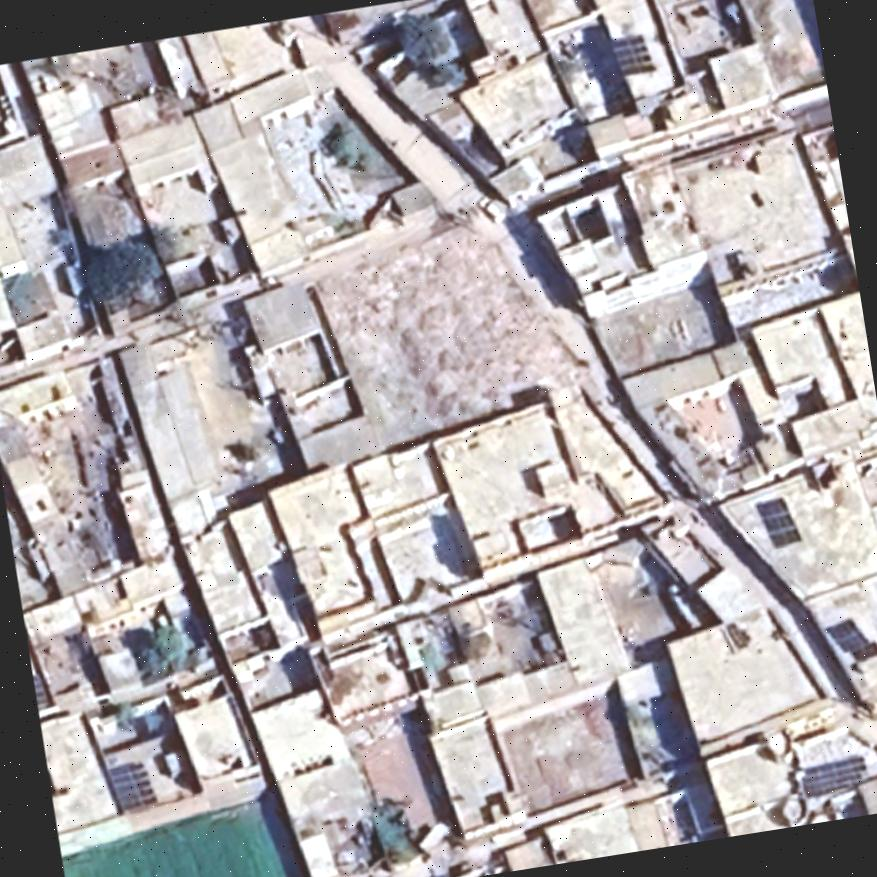Solarpanel: (791, 750, 874, 804), (98, 752, 161, 819), (748, 490, 806, 554), (818, 609, 877, 671), (604, 28, 658, 80), (31, 667, 56, 713)
